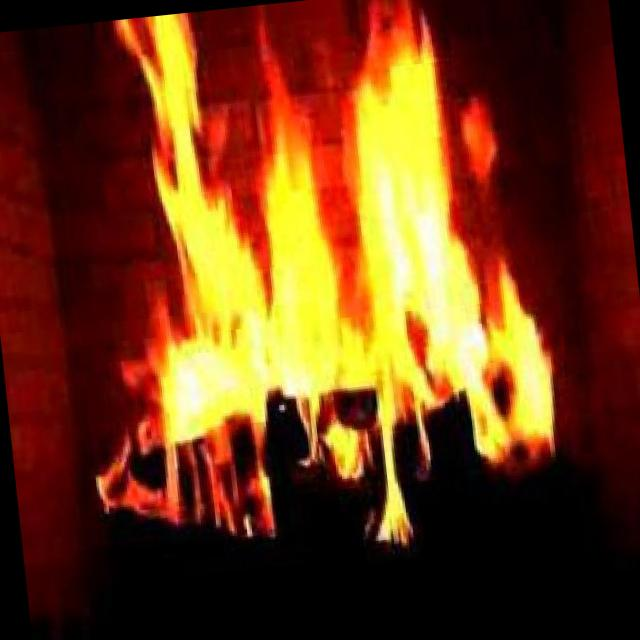Fire: (33, 0, 579, 595)
